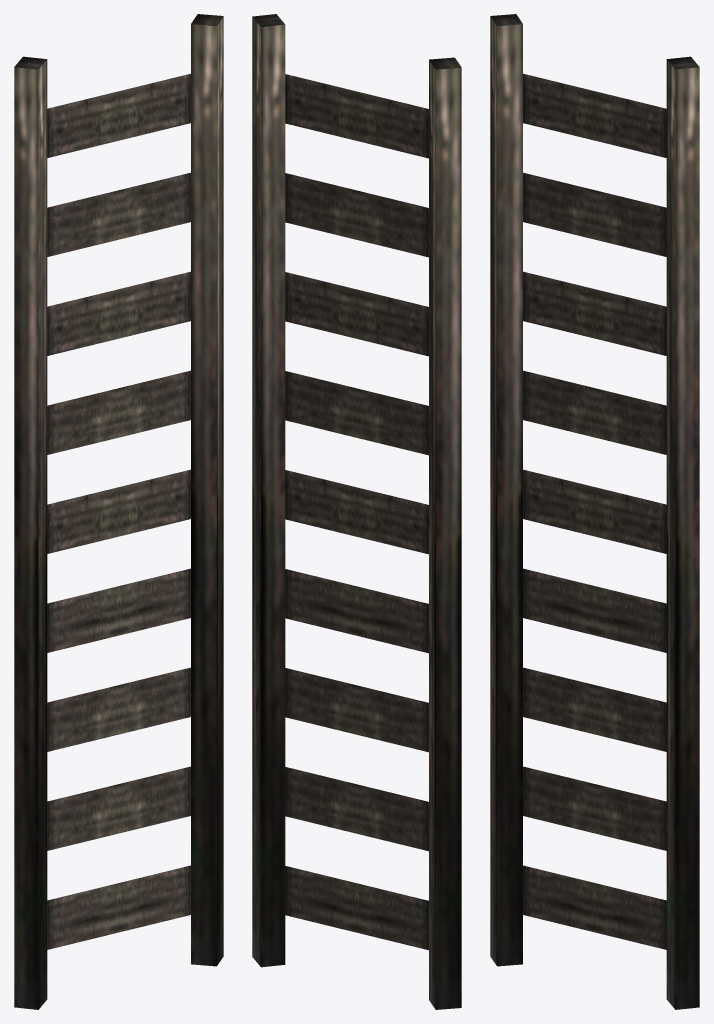
The model's file is Ladder.fbx.
3 views of the same model, side by side, from view 1: azimuth 30°, elevation 25°; view 2: azimuth 150°, elevation 25°; view 3: azimuth 330°, elevation 25° (orthographic).
Visible parts, largest first — view 1: Ladder; view 2: Ladder; view 3: Ladder.
Boxes of the visible parts, bbox=[...] form: Ladder: bbox=[14, 14, 223, 1009]; Ladder: bbox=[252, 14, 461, 1009]; Ladder: bbox=[490, 14, 699, 1009].
Size of the model in its own units: 70 by 300 by 10.
1 material, 1 textured.
